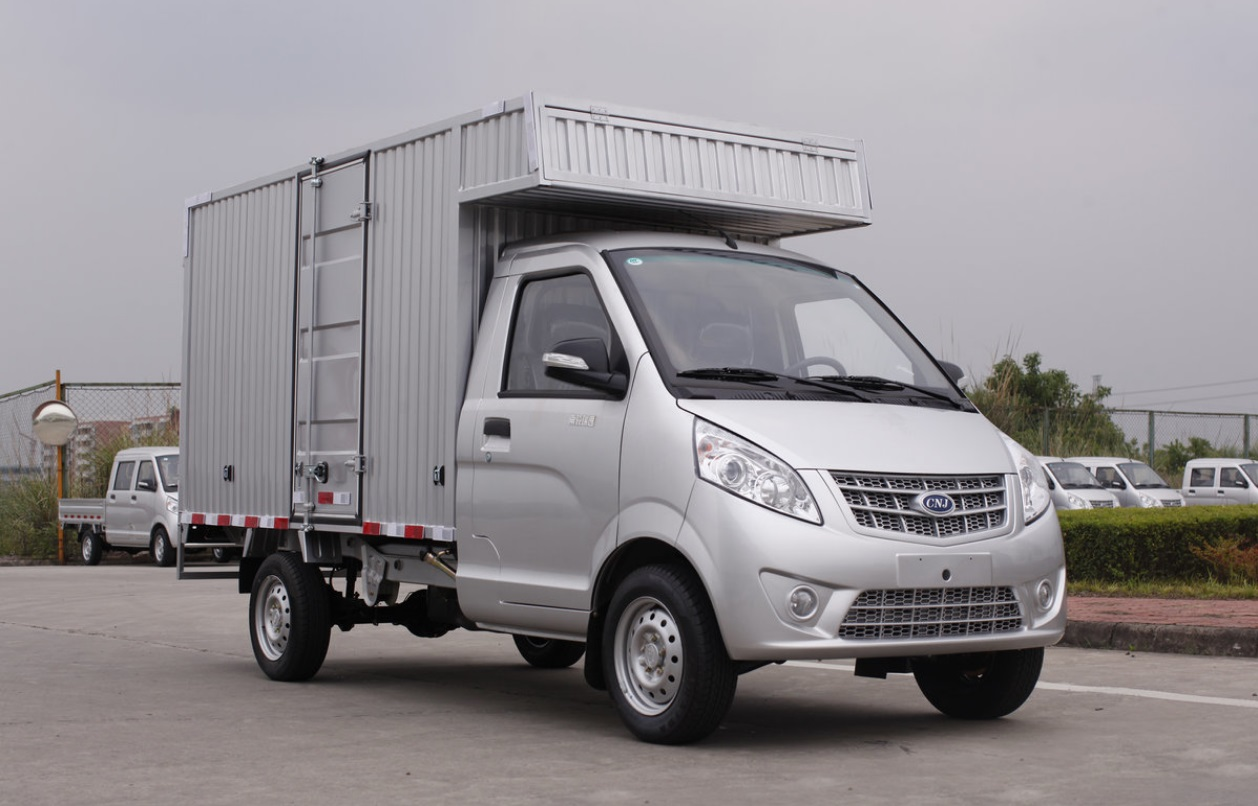truck: (175, 88, 1071, 735)
